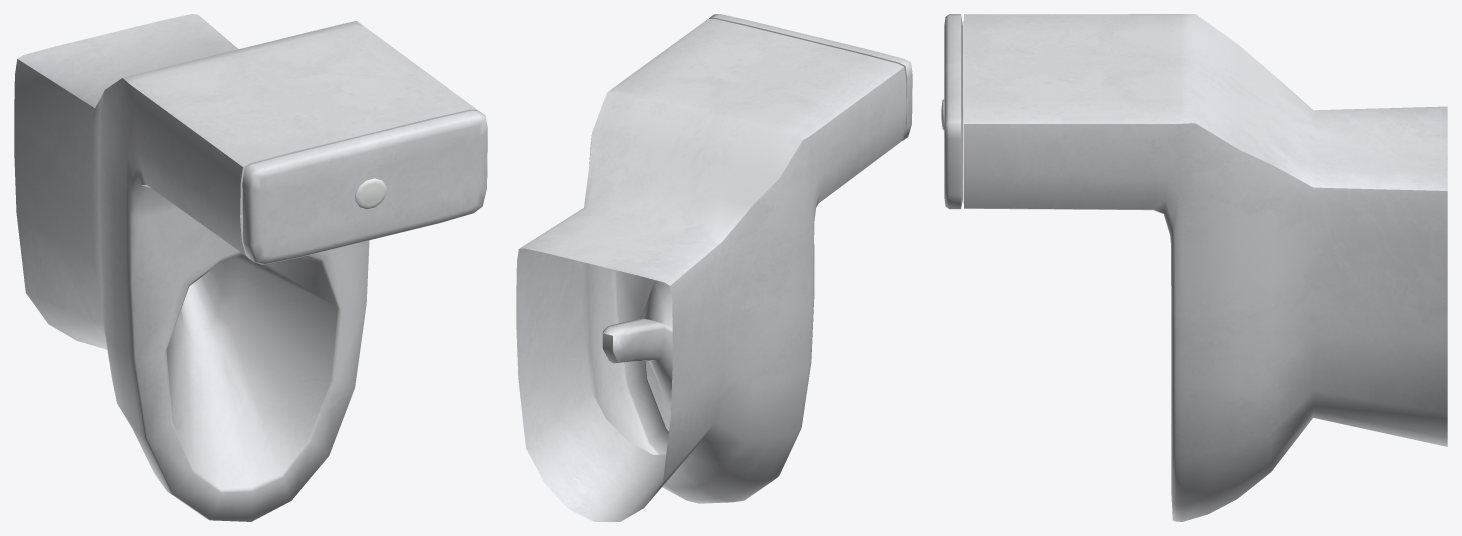
3 views of the same model, side by side, from view 1: azimuth 30°, elevation 25°; view 2: azimuth 150°, elevation 25°; view 3: azimuth 270°, elevation 25° (orthographic). The views are drawn at different scales.
Parts seen in each view (by area): view 1: FMP_Zbq_01_L; view 2: FMP_Zbq_01_L; view 3: FMP_Zbq_01_L.
Part boxes in pixels (bbox=[...]): FMP_Zbq_01_L: bbox=[14, 14, 487, 521]; FMP_Zbq_01_L: bbox=[516, 14, 912, 521]; FMP_Zbq_01_L: bbox=[941, 14, 1447, 521].
Bounding box in the file's own units: 15.01 × 27.81 × 28.5.
